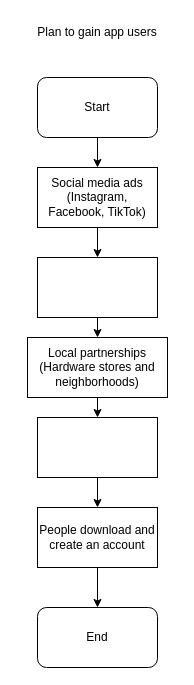
The diagram is 194 pixels wide and 685 high, and some of its shapes have lost their labels. Here are the shapes that lost their labels. From the top down, the centre of each, then its label:
[97,287]: Referral coupons ("invite a friend" discounts)
[97,447]: Handyman incentives (free registration)
